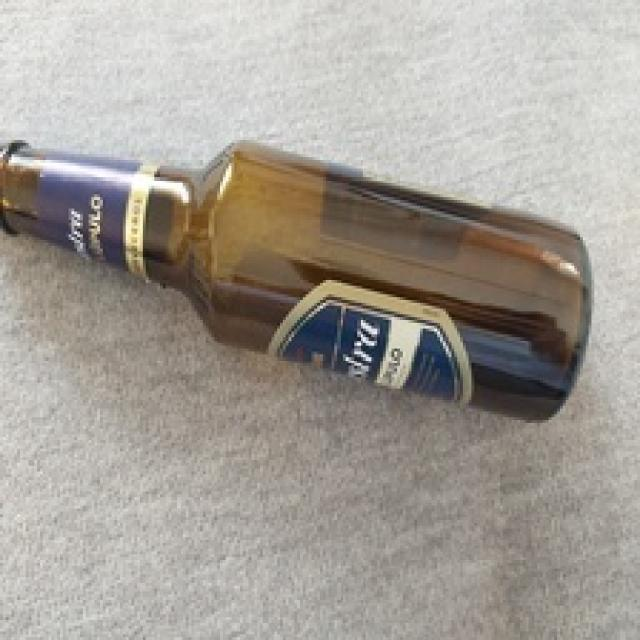Glass: (0, 137, 597, 426)
